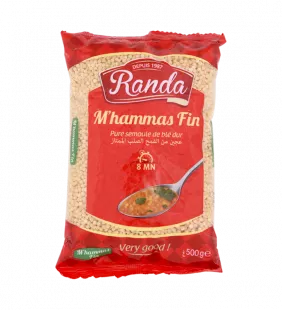RANDA: (44, 20, 236, 285)
